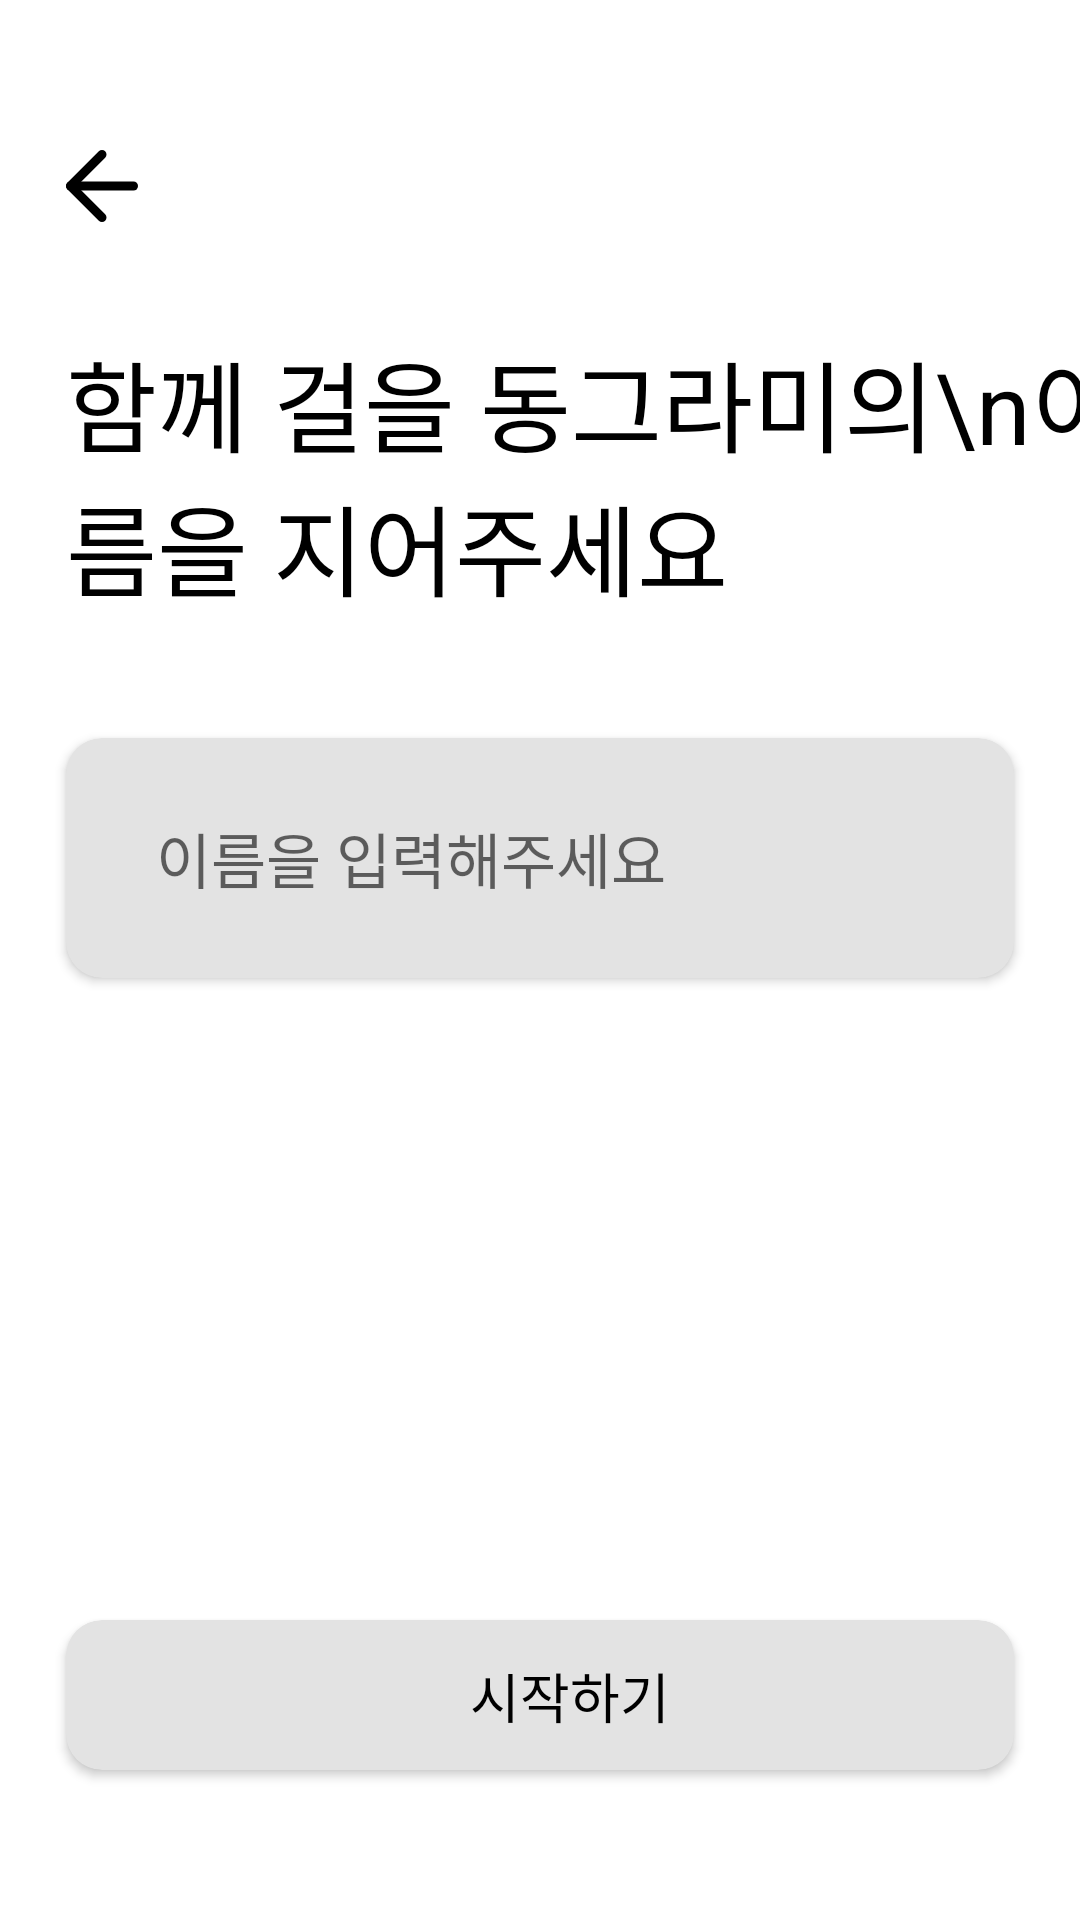

Icons on this 1080 × 1920 Android screen, each with its box as (x1, y1, x2, y2):
back: (66, 150, 138, 222)
